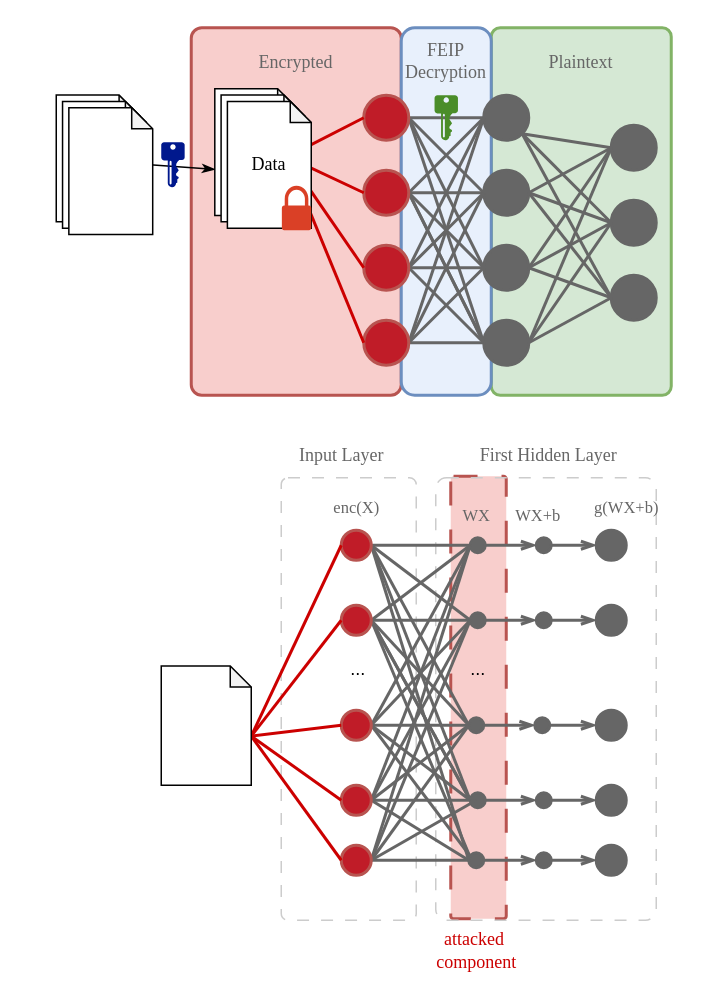
Image size: 704x1005. Some labels were removed from this diagram. The shapes that lost their labels are listed below. From the top down, each one's centre as x and y in pixels, then its label:
At point 110,170: "Train Data".
At point 205,724: "Encrypted Train Data".
